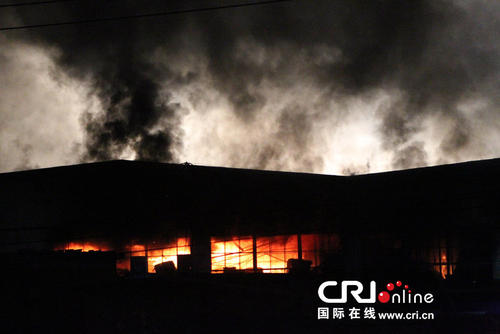fire: (119, 233, 325, 275)
smoke: (75, 12, 464, 142)
